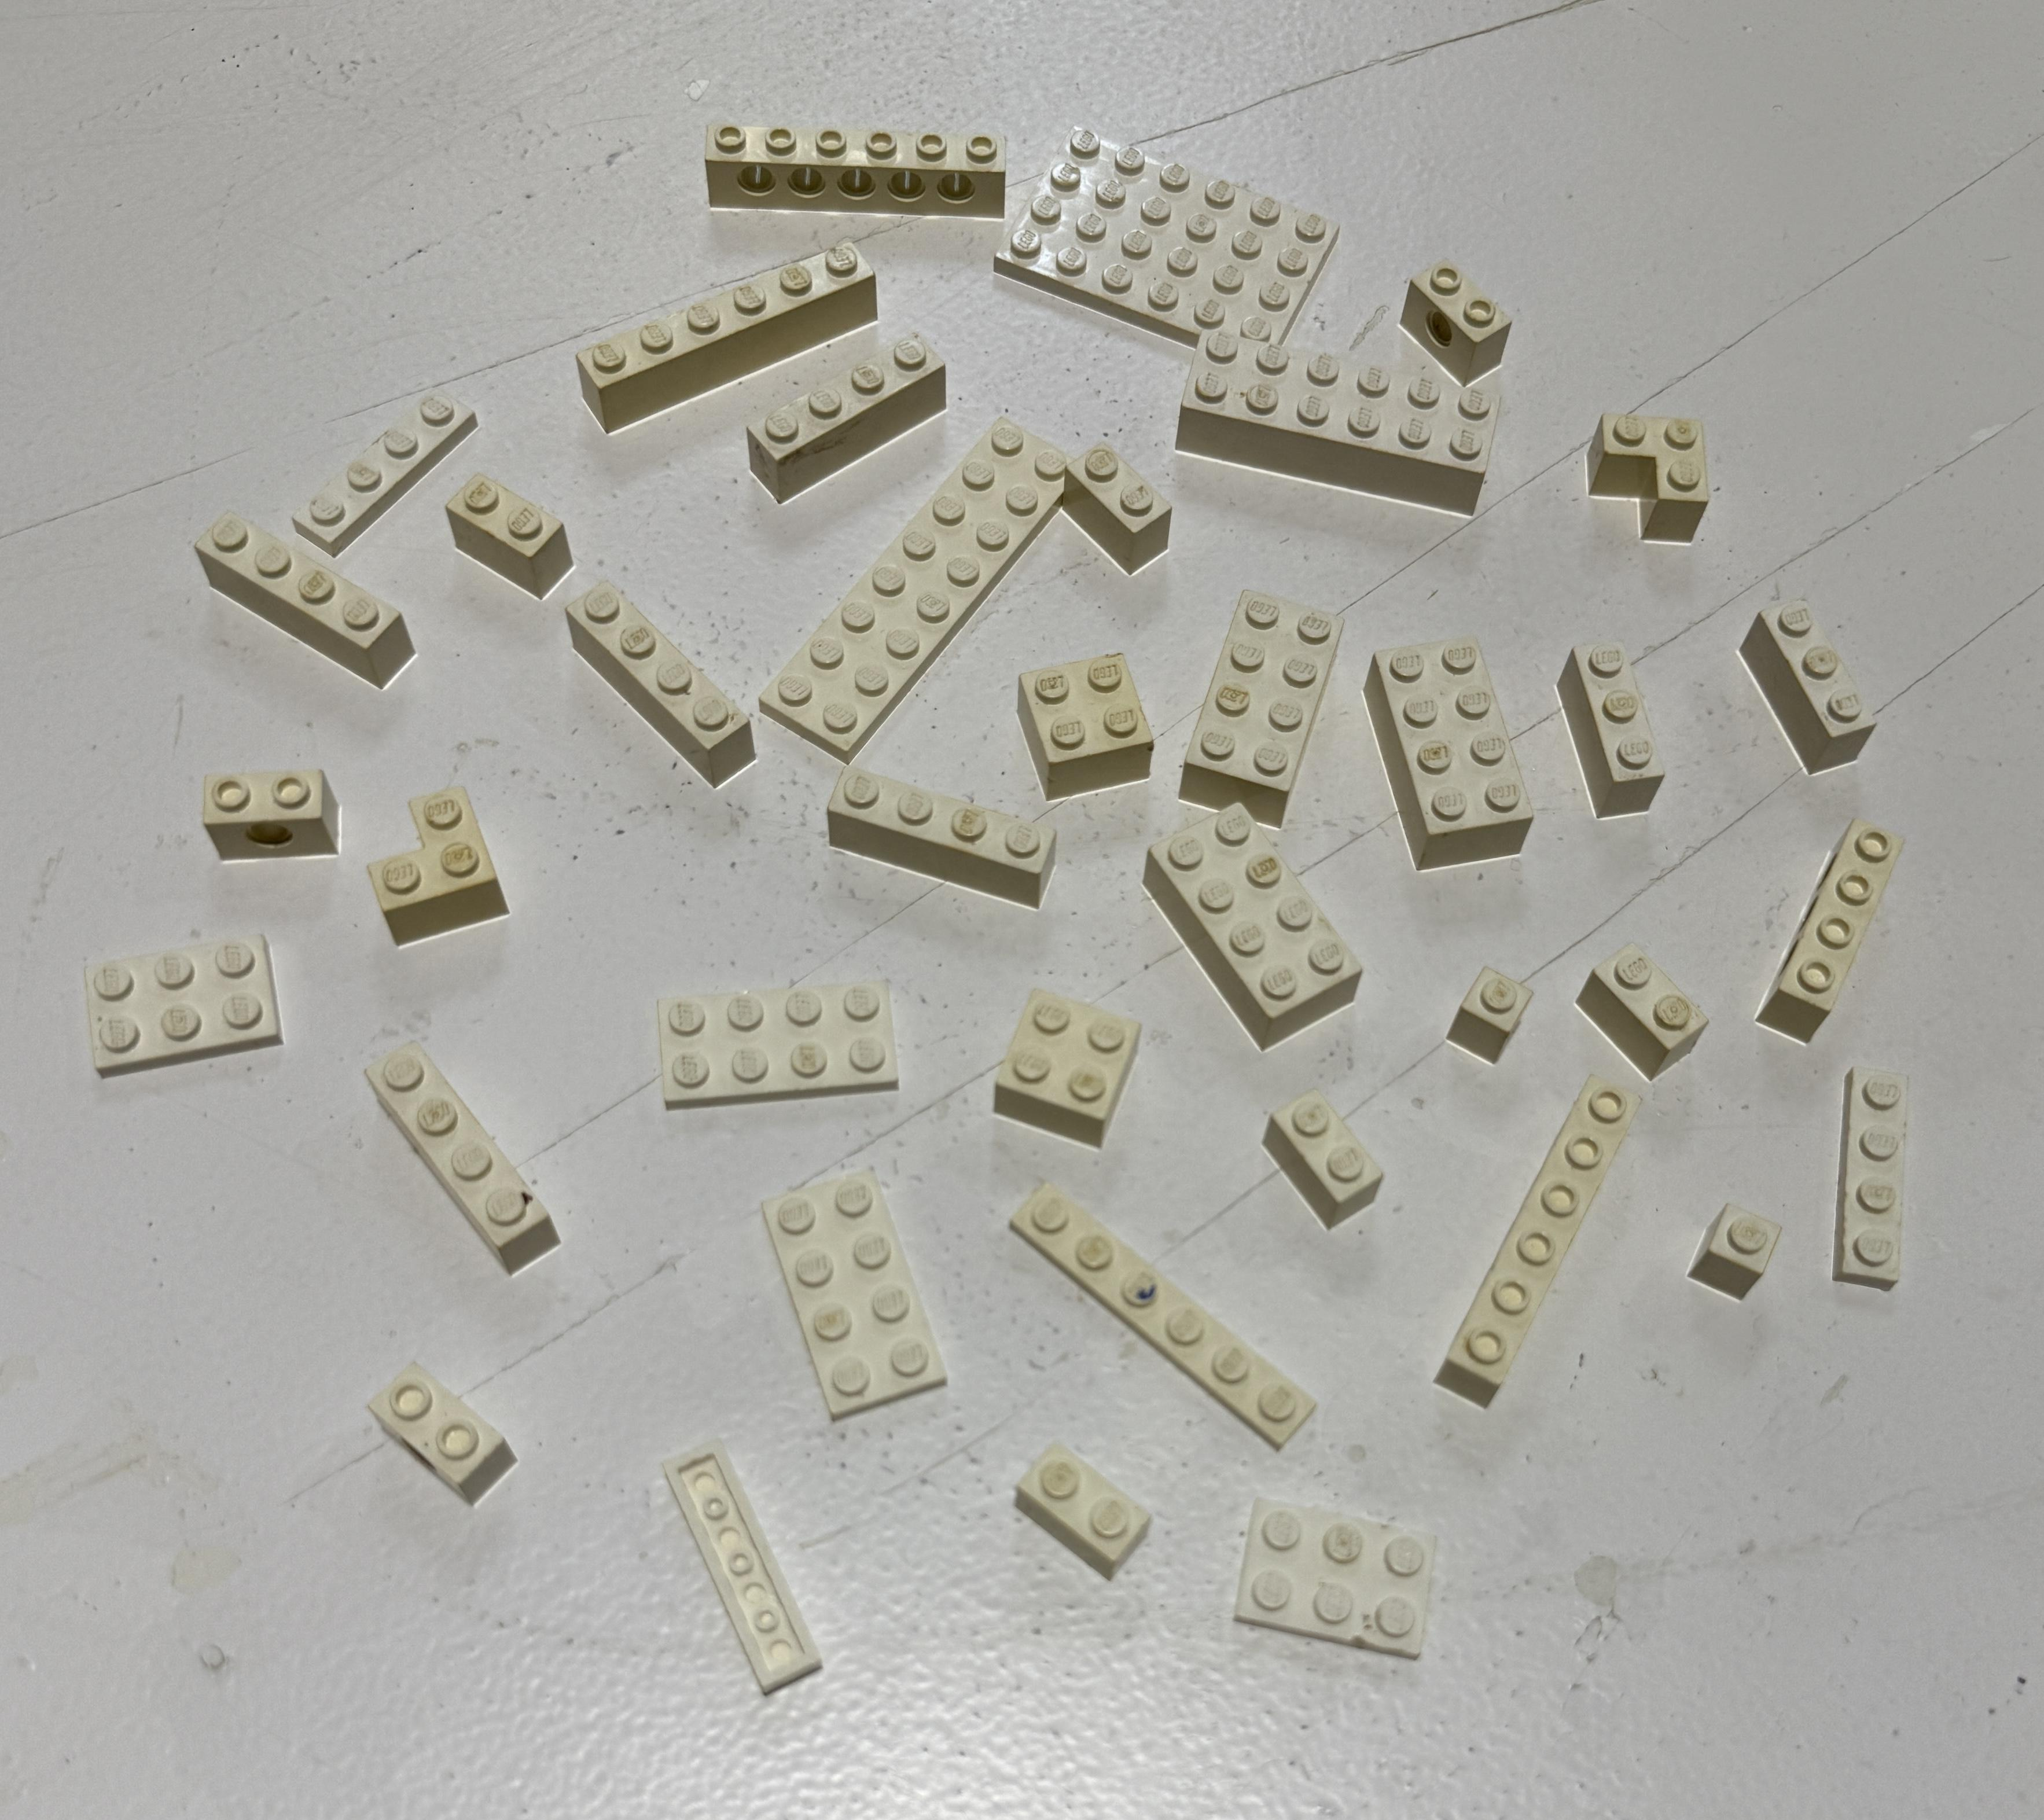brick_1x1: (1666, 1175, 1788, 1335), (1443, 947, 1545, 1089)
brick_1x2: (1001, 1419, 1187, 1607), (349, 1326, 527, 1513), (179, 724, 372, 882), (1568, 915, 1731, 1100), (1245, 1084, 1414, 1258), (1375, 223, 1529, 392), (439, 459, 594, 620), (1041, 423, 1192, 583)
brick_1x3: (1724, 567, 1886, 794), (1542, 615, 1677, 829)
brick_1x4: (353, 1019, 587, 1288), (169, 504, 465, 708), (532, 562, 774, 808), (720, 304, 968, 534), (1745, 799, 1935, 1059), (818, 745, 1075, 926)
brick_2x2: (961, 973, 1148, 1145), (997, 638, 1159, 798)
brick_2x4: (1126, 785, 1378, 1056), (1335, 615, 1549, 877), (1170, 562, 1347, 838)
